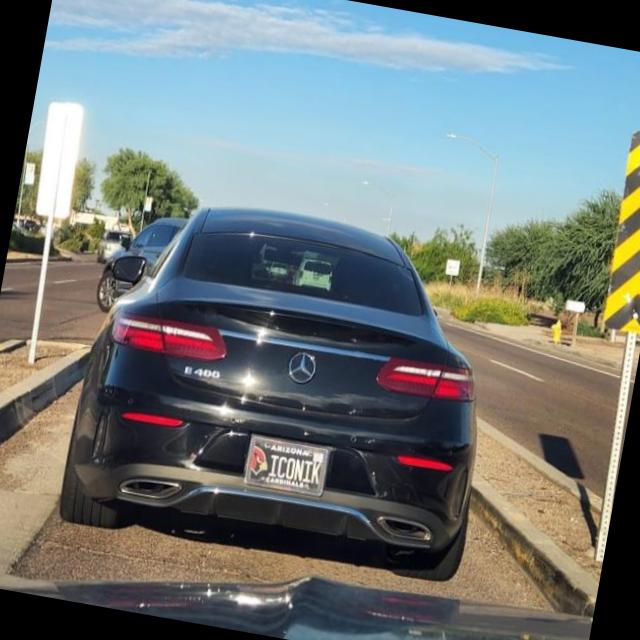LicensePlate: (240, 432, 329, 496)
